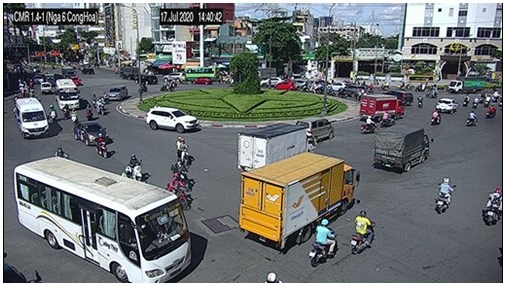xe_buyt: (15, 156, 193, 284), (55, 78, 79, 110), (184, 67, 226, 80)
xe_hoi: (146, 108, 197, 133), (73, 122, 109, 147), (297, 118, 333, 142), (383, 90, 413, 107), (342, 84, 367, 97), (437, 97, 456, 113), (108, 86, 128, 101), (136, 75, 160, 86), (261, 77, 286, 87), (163, 72, 184, 82), (294, 79, 312, 90), (327, 82, 345, 93), (191, 77, 213, 85), (40, 83, 51, 94)
xe_khach: (15, 99, 48, 139)
xe_may: (308, 218, 337, 266), (351, 209, 375, 255), (168, 173, 190, 211), (483, 187, 503, 226), (436, 177, 454, 214), (172, 158, 192, 191), (128, 153, 143, 180), (177, 137, 191, 163), (466, 110, 479, 126), (485, 103, 496, 120), (96, 98, 106, 116), (431, 109, 442, 125), (84, 103, 92, 121), (429, 84, 438, 98), (417, 95, 425, 110), (462, 92, 470, 107), (490, 90, 499, 101), (472, 96, 479, 108)
xe_tai: (238, 151, 357, 252), (237, 123, 317, 171), (372, 123, 428, 174), (449, 76, 486, 91), (60, 66, 77, 78)
